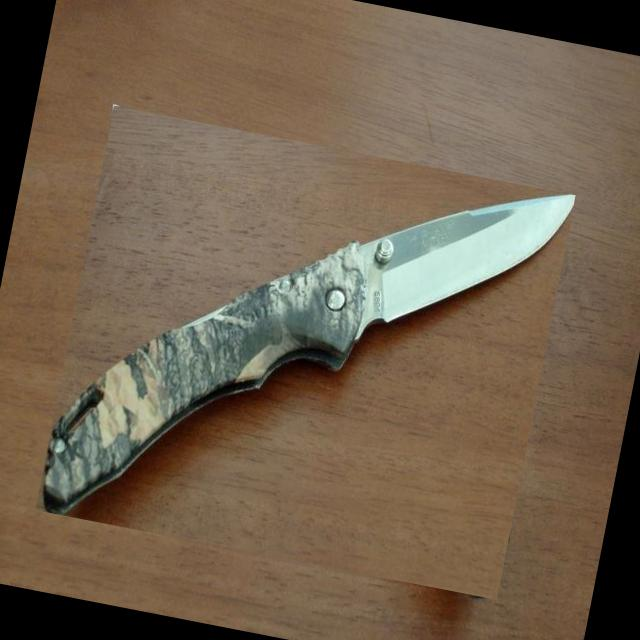Knife: (44, 196, 575, 515)
